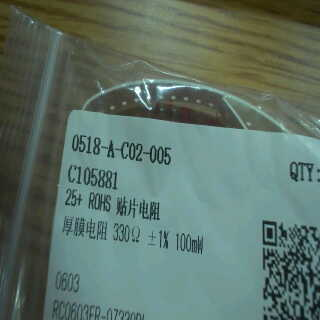330R: (110, 219, 145, 244)
